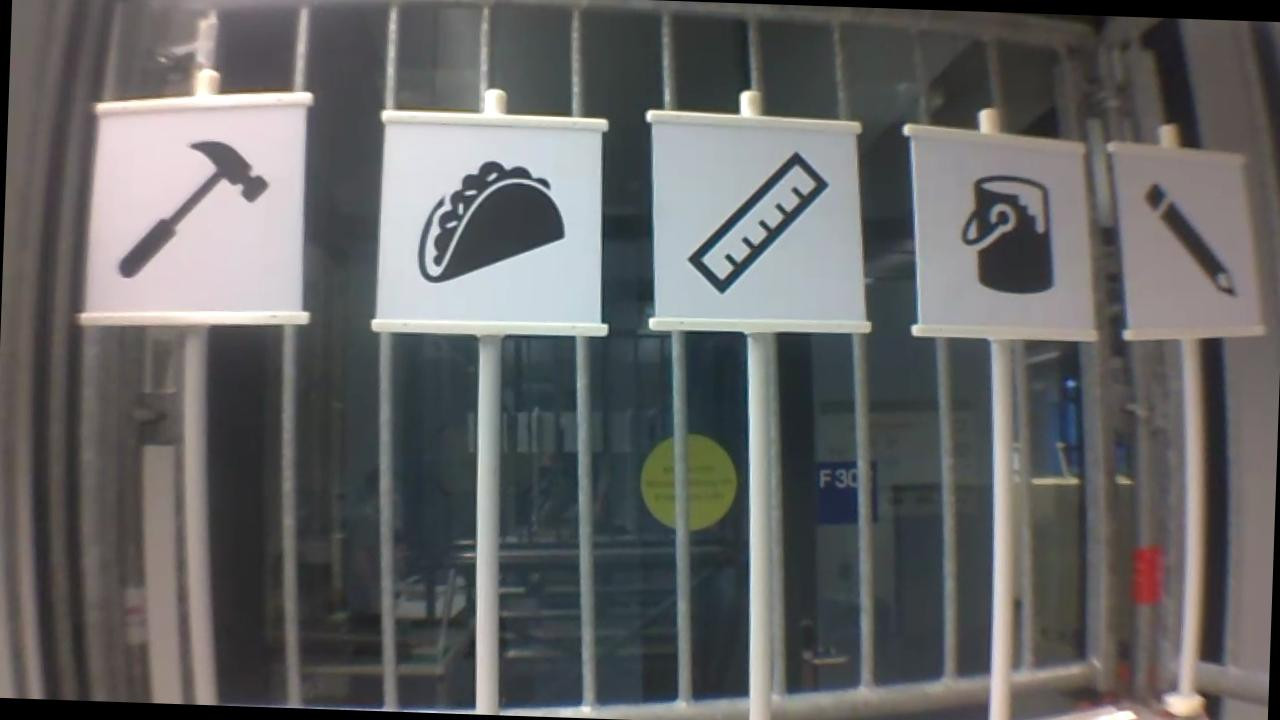bucket: (948, 168, 1064, 301)
hammer: (111, 131, 272, 285)
ruler: (672, 141, 836, 303)
taco: (410, 151, 574, 290)
